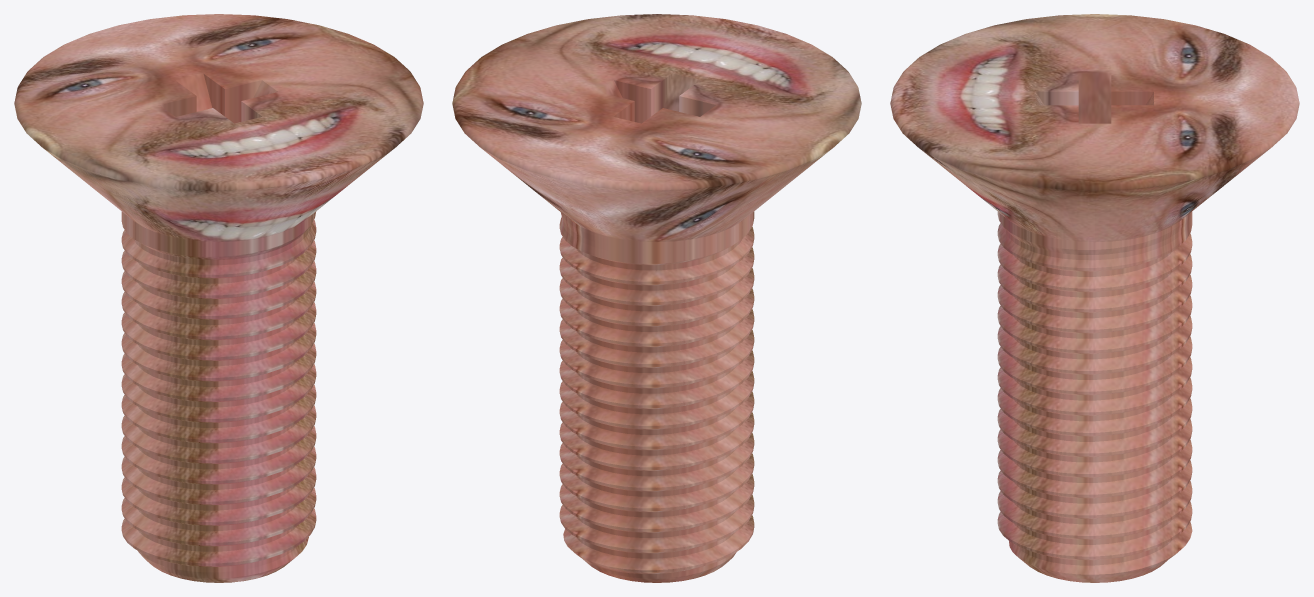
File: kroeger-counter-sink-phillips-bolt.glb
3 renders of one model, left to right at view 1: azimuth 30°, elevation 25°; view 2: azimuth 150°, elevation 25°; view 3: azimuth 270°, elevation 25°, orthographic.
Parts seen in each view (by area): view 1: Bolt.028; view 2: Bolt.028; view 3: Bolt.028.
Part boxes in pixels (x1,y1,x2,y2): Bolt.028: [14, 14, 423, 582]; Bolt.028: [452, 14, 861, 582]; Bolt.028: [890, 14, 1299, 582].
Size of the model in its own units: 0.0126 by 0.0154 by 0.0126.
Materials: 1 (1 with a texture image).
